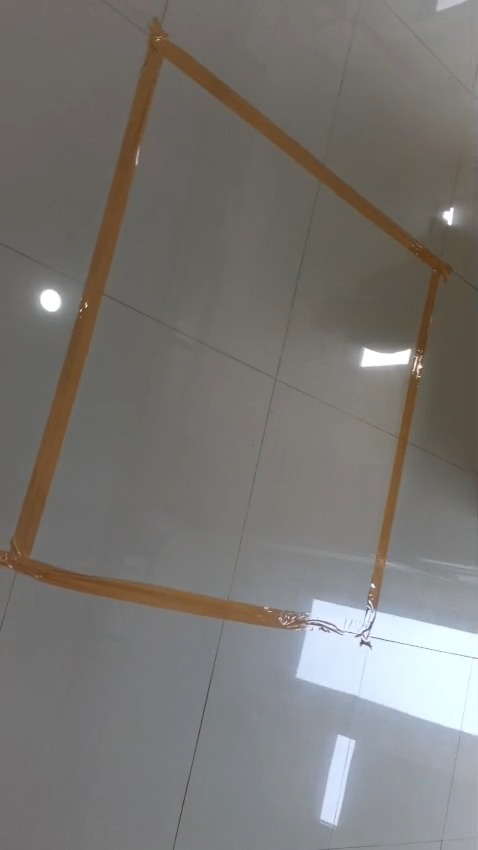floor marking: (0, 19, 452, 646), (132, 160, 133, 161)
